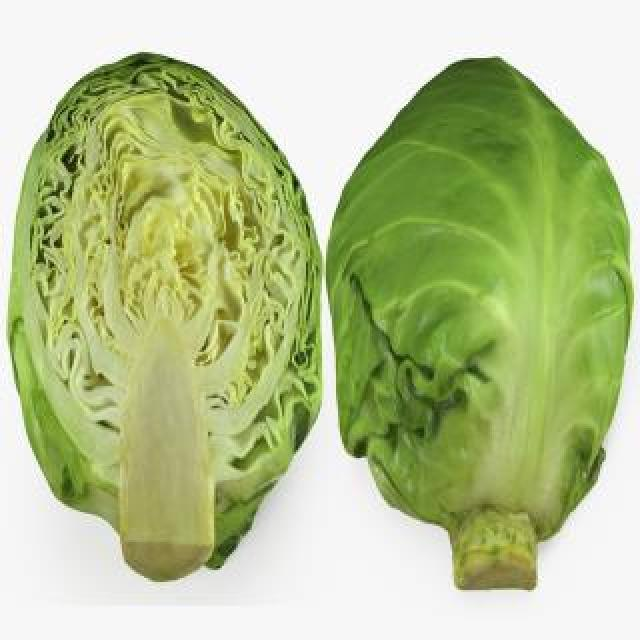cabbage: (323, 37, 636, 607), (7, 41, 328, 590)
